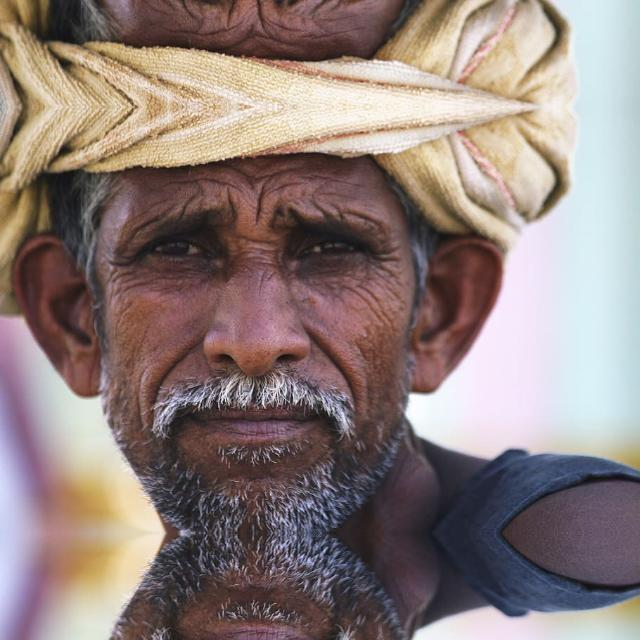person: (5, 111, 571, 533), (5, 533, 571, 640), (5, 0, 571, 101)
